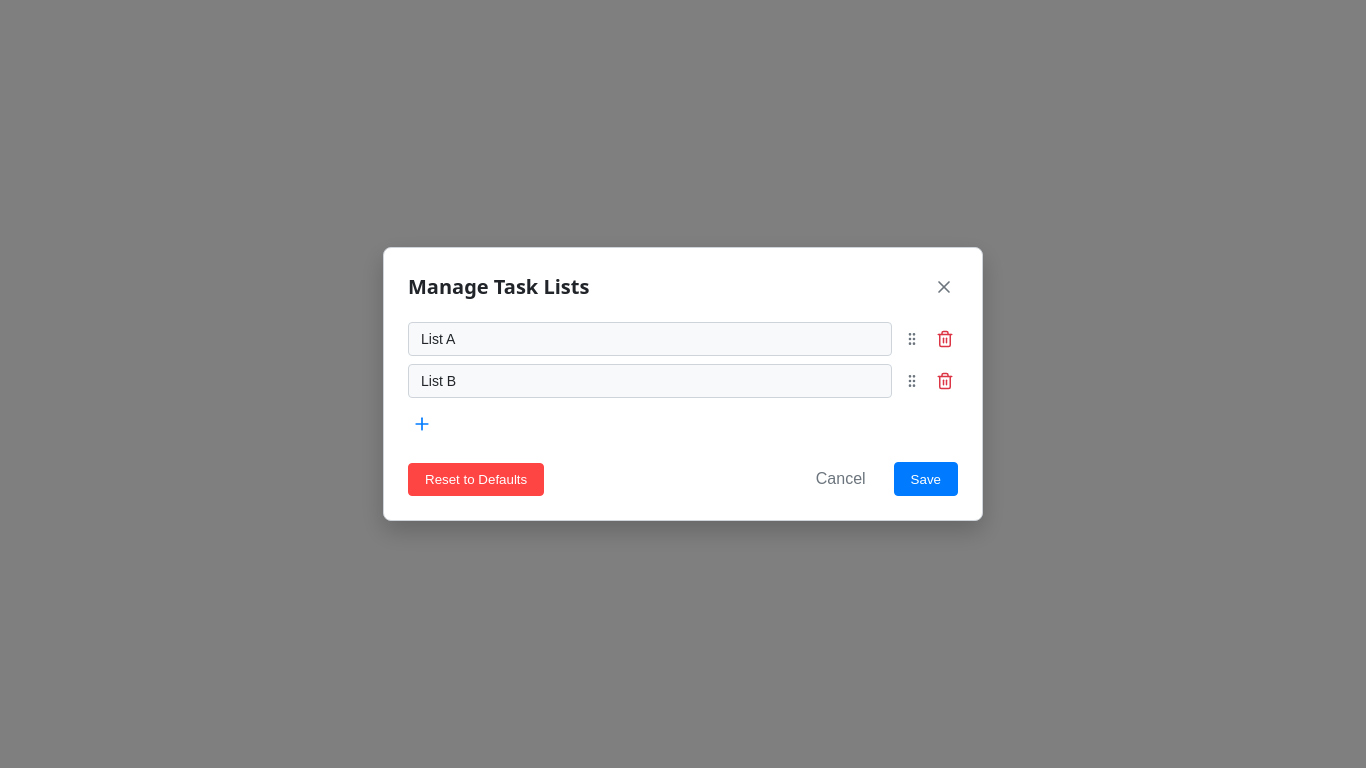
Scenario: ManageTaskListsModal › disables save button when task list names are duplicated
Replace the text in the 2nd field with placeholder "Task list name" with "List A" at (650, 381), box 408,364 -> 892,398
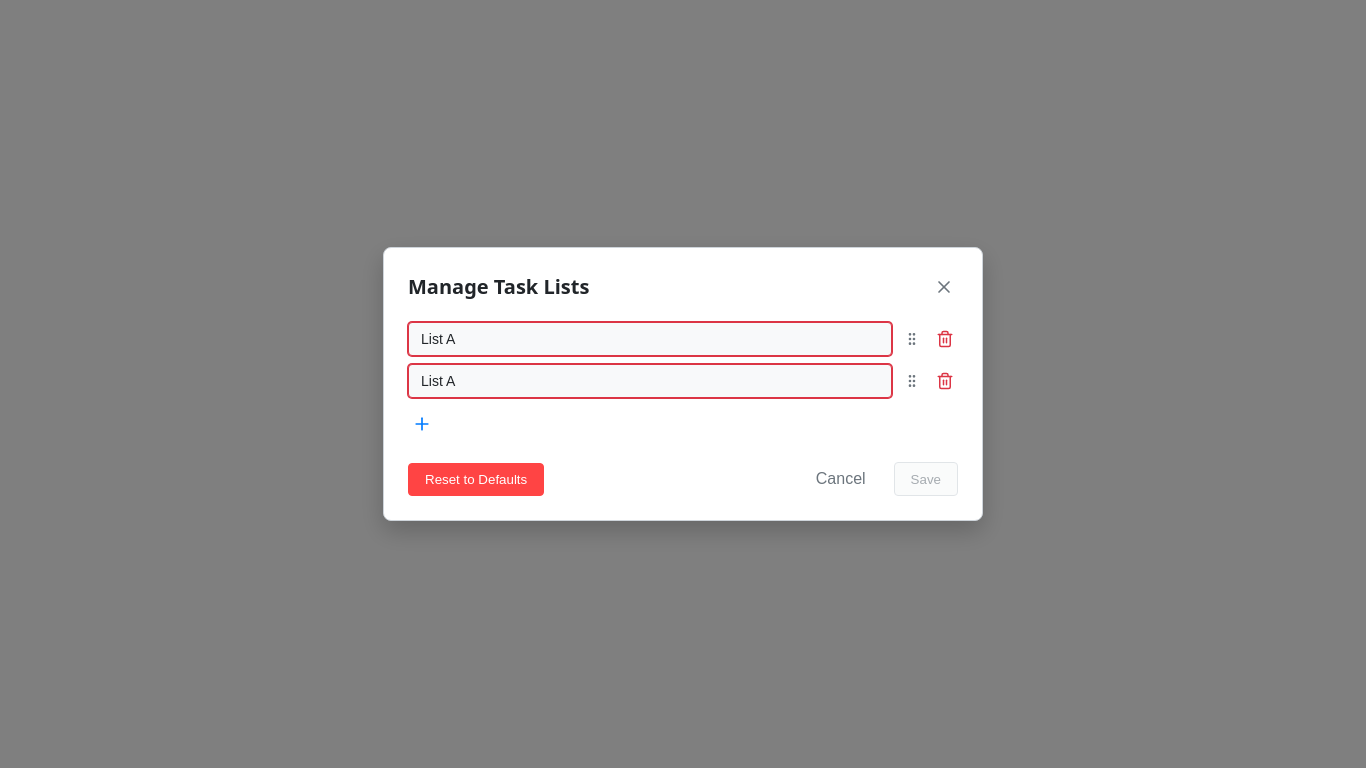
Check: the button "Save" is disabled, box 894,462 -> 958,496
